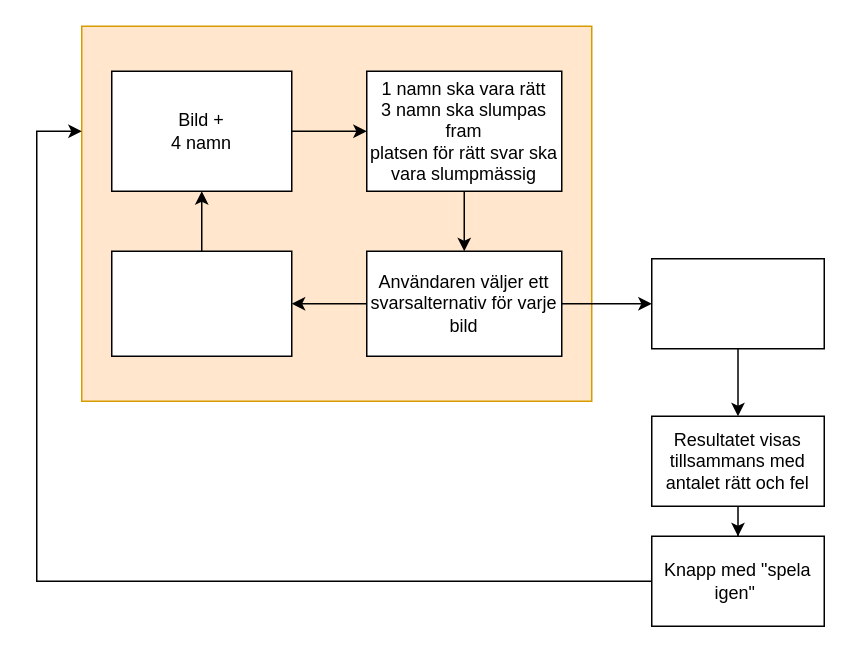
The diagram is 851 pixels wide and 653 high, and some of its shapes have lost their labels. Each missing label, with the centre of its shape:
Användaren klickar på "nästa": (x=201, y=303)
Användaren är på sista bilden och klickar på "visa resultat": (x=737, y=303)
